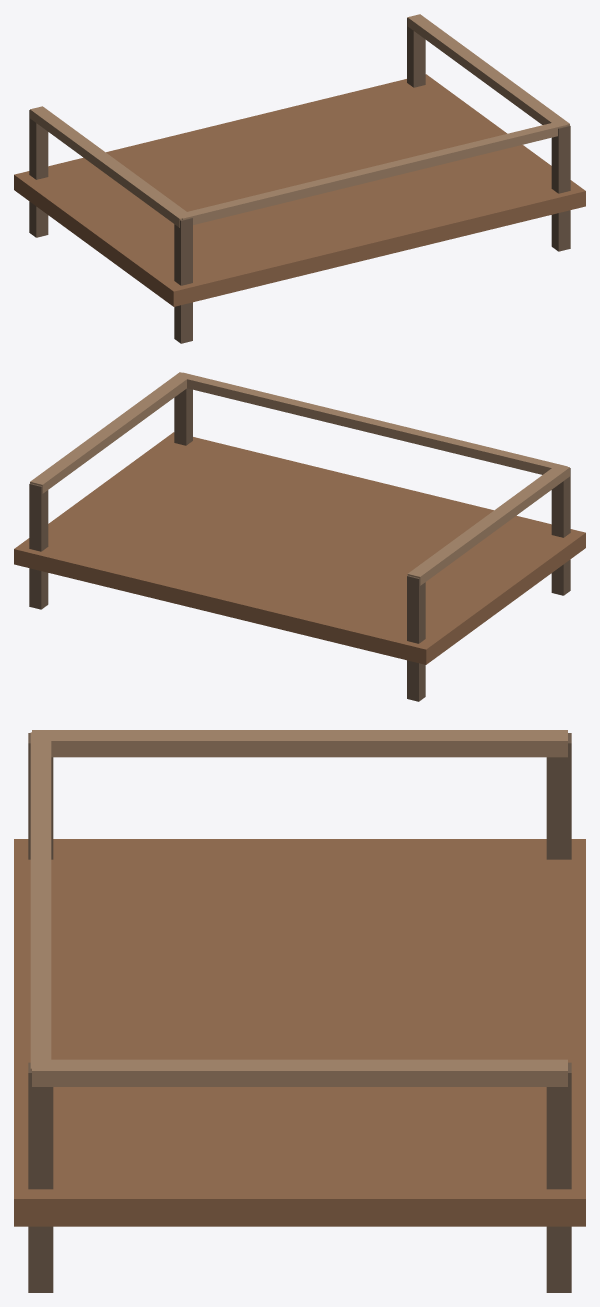
Rendered from lookout-deck.glb.
The picture shows the model from 3 angles, top to bottom: view 1: azimuth 30°, elevation 25°; view 2: azimuth 150°, elevation 25°; view 3: azimuth 270°, elevation 25°; orthographic projection. The views are drawn at different scales.
Visible parts, largest first — view 1: lookout-deck; view 2: lookout-deck; view 3: lookout-deck.
Part boxes in pixels (box(x1,y1,x2,y2)): lookout-deck: box(14, 14, 585, 343); lookout-deck: box(14, 372, 585, 701); lookout-deck: box(14, 730, 585, 1292).
Bounding box in the file's own units: 6.18 × 1.78 × 4.15.
